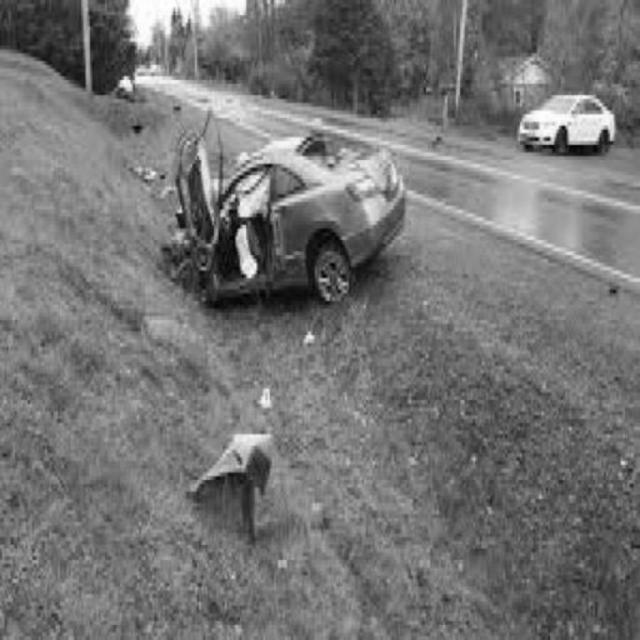vehicle: (177, 130, 405, 307), (518, 89, 616, 159)
